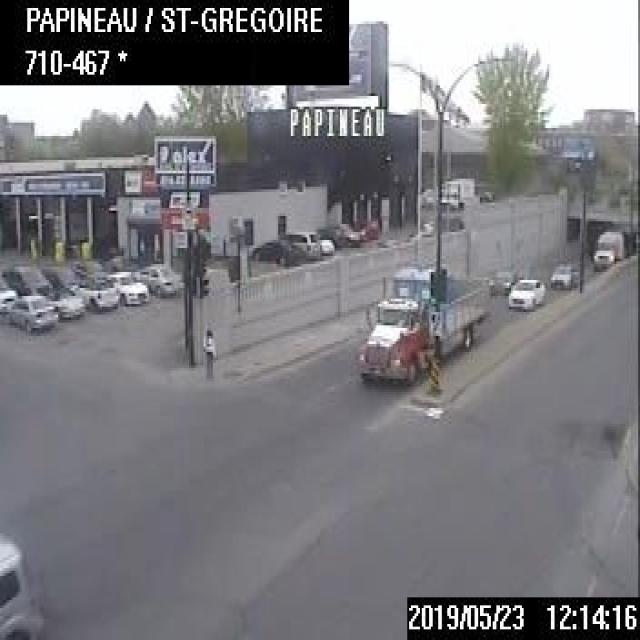pedestrian: (200, 325, 215, 376)
vehicle: (356, 258, 489, 386), (0, 527, 36, 637), (7, 293, 56, 332), (131, 261, 182, 296), (108, 264, 148, 306), (0, 264, 49, 296), (78, 274, 118, 311), (506, 274, 546, 311), (46, 283, 84, 320), (441, 173, 478, 209), (591, 226, 624, 266), (252, 235, 300, 262), (281, 230, 320, 261), (486, 266, 522, 294), (547, 256, 578, 285), (333, 221, 359, 244), (318, 234, 332, 254)
